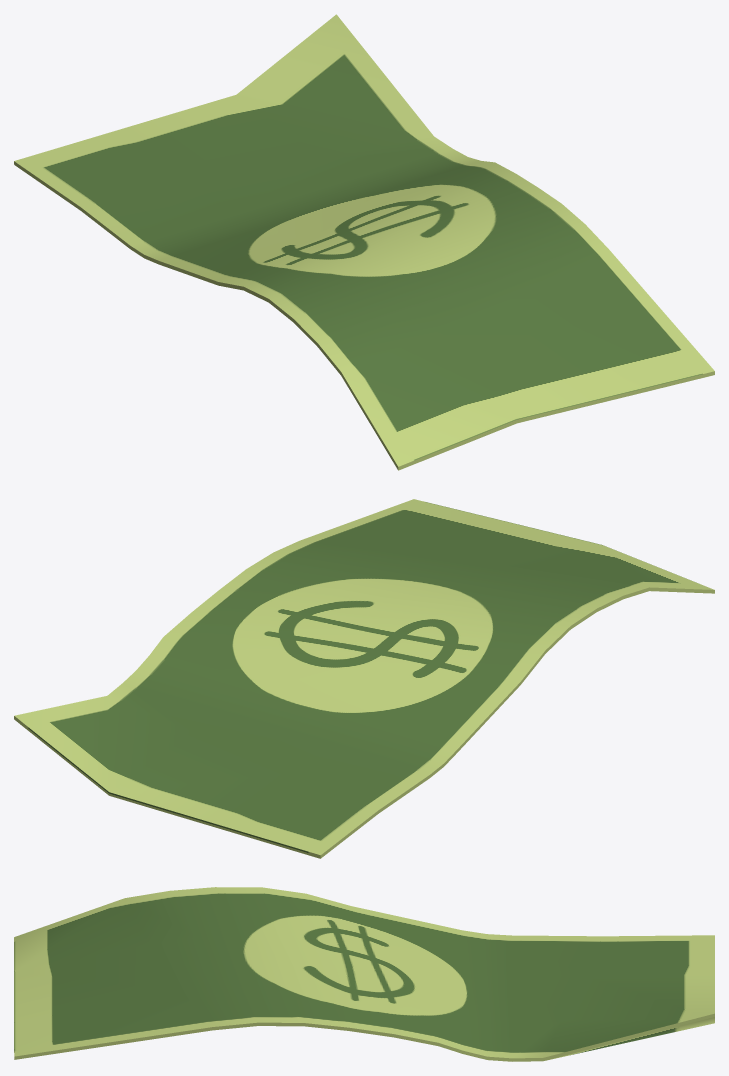
The model's file is SM_DollarBillForReal.fbx.
3 views of the same model, one above another, from view 1: azimuth 30°, elevation 25°; view 2: azimuth 150°, elevation 25°; view 3: azimuth 270°, elevation 25° (orthographic). The views are drawn at different scales.
Parts seen in each view (by area): view 1: Dollar_bill; view 2: Dollar_bill; view 3: Dollar_bill.
Boxes of the visible parts, <box> form: Dollar_bill: <box>14,14,714,470</box>; Dollar_bill: <box>14,499,714,858</box>; Dollar_bill: <box>14,887,714,1061</box>.
Bounding box in the file's own units: 14.91 × 3.42 × 30.36.
